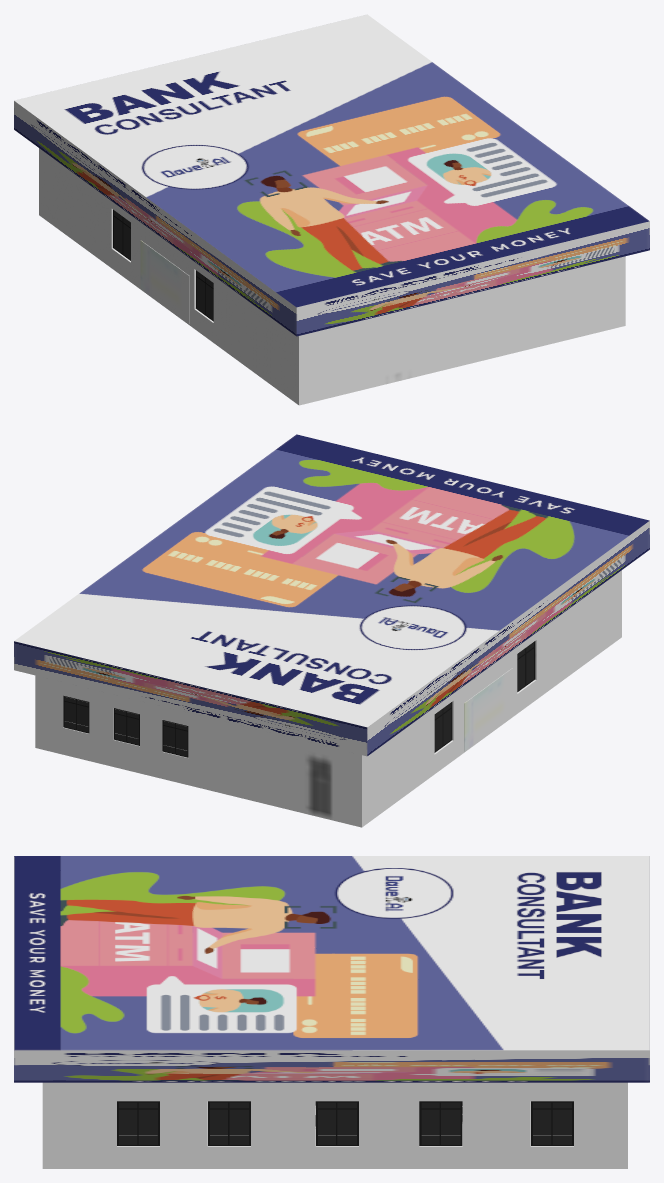
The model's file is Static 1.glb.
The picture shows the model from 3 angles, top to bottom: view 1: azimuth 30°, elevation 25°; view 2: azimuth 150°, elevation 25°; view 3: azimuth 270°, elevation 25°; orthographic projection. The views are drawn at different scales.
Visible parts, largest first — view 1: Dev-Banking-System; view 2: Dev-Banking-System; view 3: Dev-Banking-System.
Part boxes in pixels (x1=…): Dev-Banking-System: x1=14, y1=14, x2=649, y2=405; Dev-Banking-System: x1=14, y1=434, x2=649, y2=827; Dev-Banking-System: x1=14, y1=856, x2=649, y2=1168.
Bounding box in the file's own units: 16.88 × 5.07 × 23.38.
38 materials, 30 textured.
